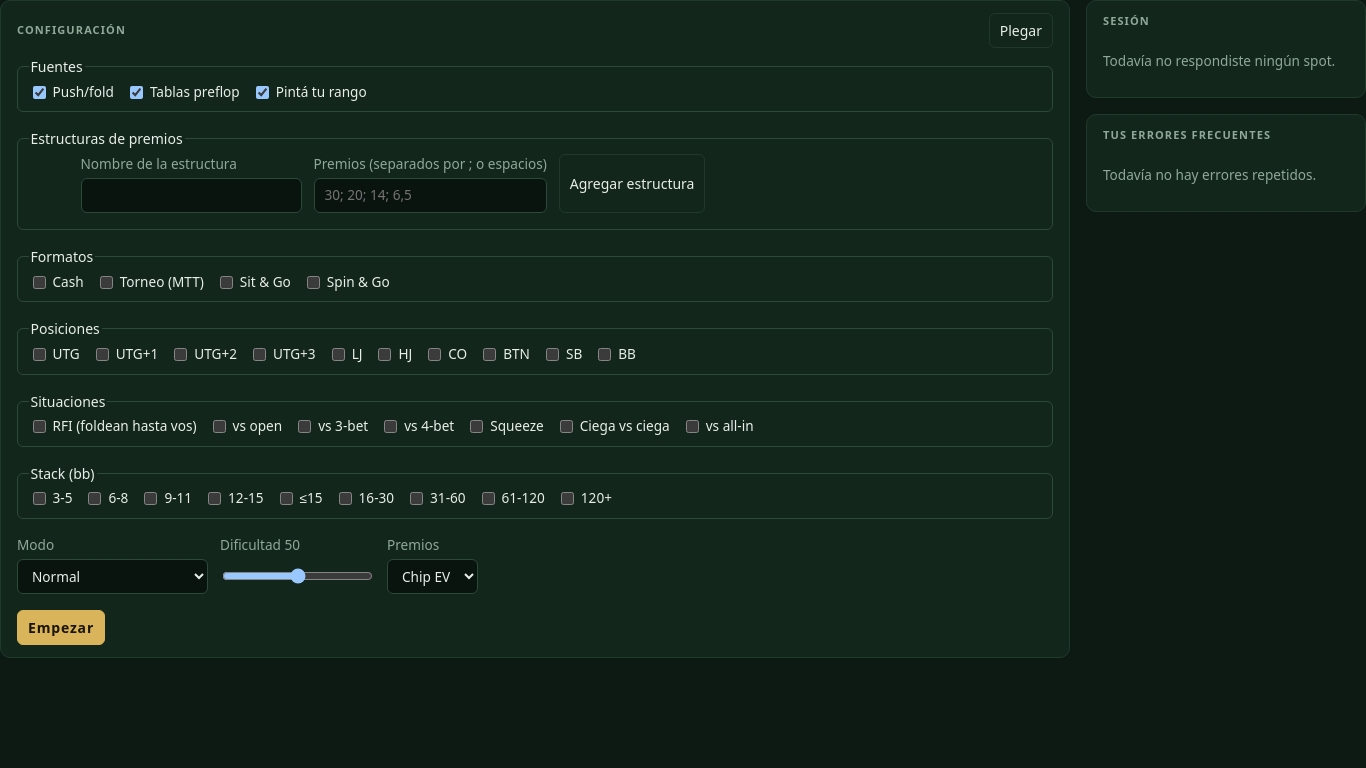
Test: TrainerPage › shows the spot without any frequency or EV before answering
The image size is (1366, 768).
Click the button "Empezar": (61,628) [17,610,105,645]
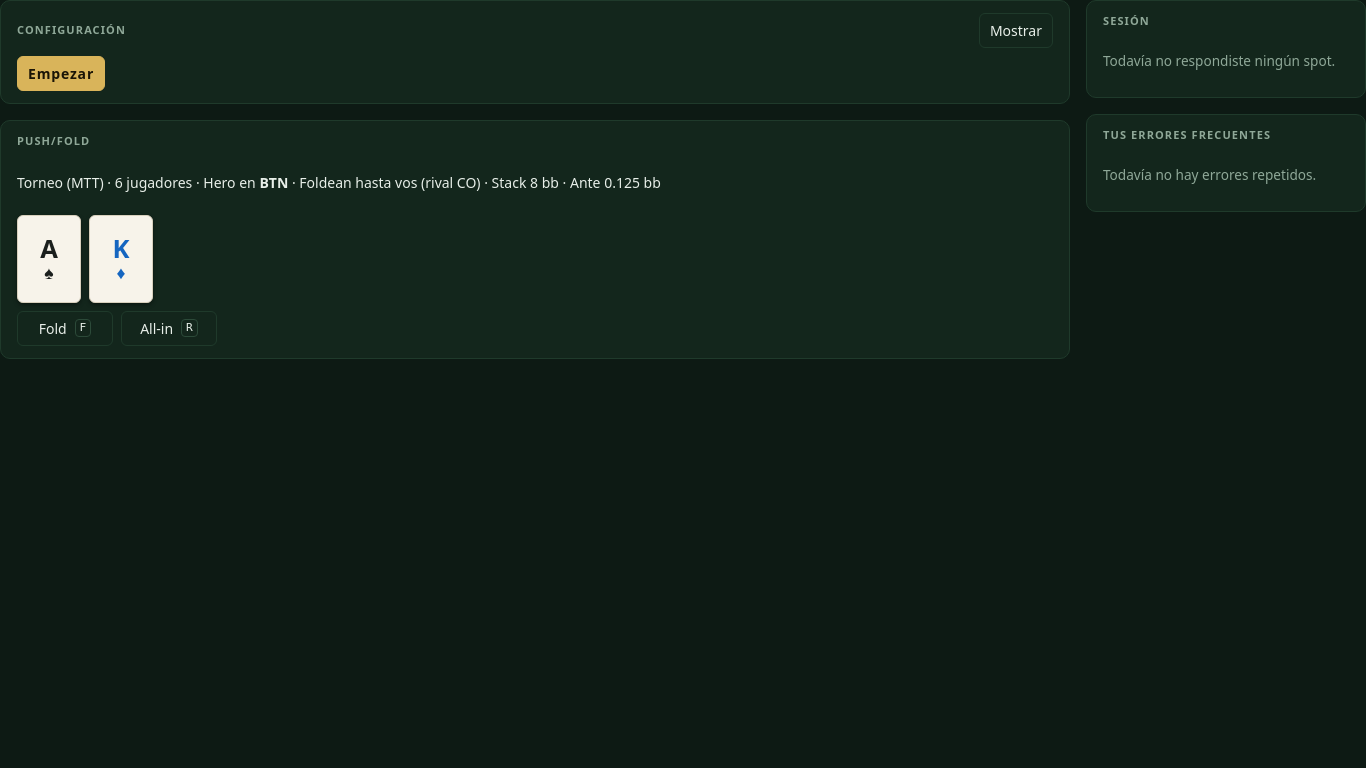
Now the text "Foldean hasta vos" is shown, box [299,172,417,192]
Now the button "Fold F" is shown, box [17,310,113,346]
Now the button "All-in R" is shown, box [121,310,217,346]
